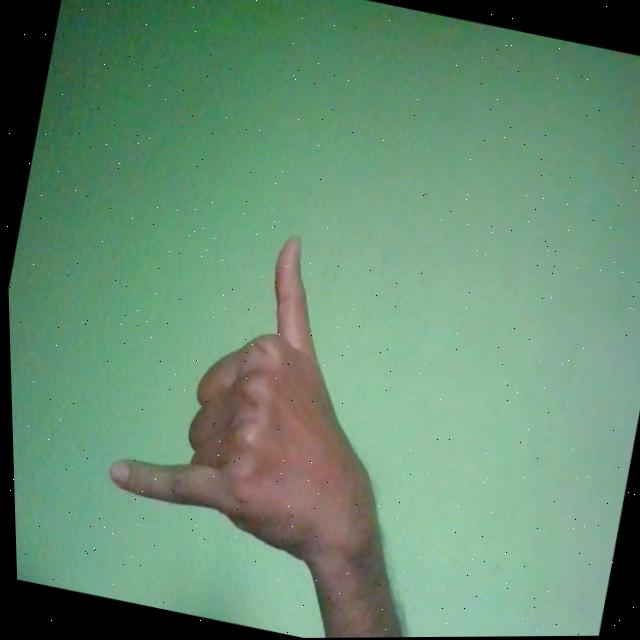Call Me: (89, 205, 434, 579)
